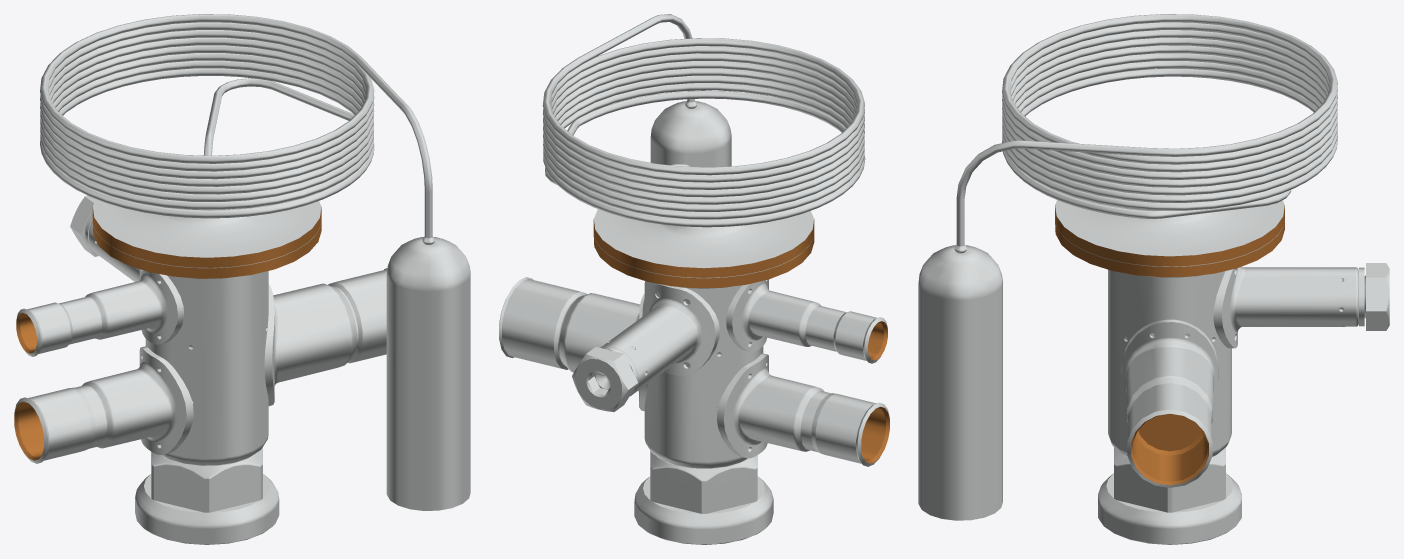
The picture shows the model from 3 angles, left to right: view 1: azimuth 30°, elevation 25°; view 2: azimuth 150°, elevation 25°; view 3: azimuth 270°, elevation 25°; orthographic projection. The views are drawn at different scales.
Parts seen in each view (by area): view 1: Solid1; view 2: Solid1; view 3: Solid1.
Part boxes in pixels (x1,y1,x2,y2): Solid1: (14, 14, 470, 544); Solid1: (499, 14, 889, 544); Solid1: (918, 14, 1389, 544).
Size of the model in its own units: 0.2894 by 0.3203 by 0.3142.
